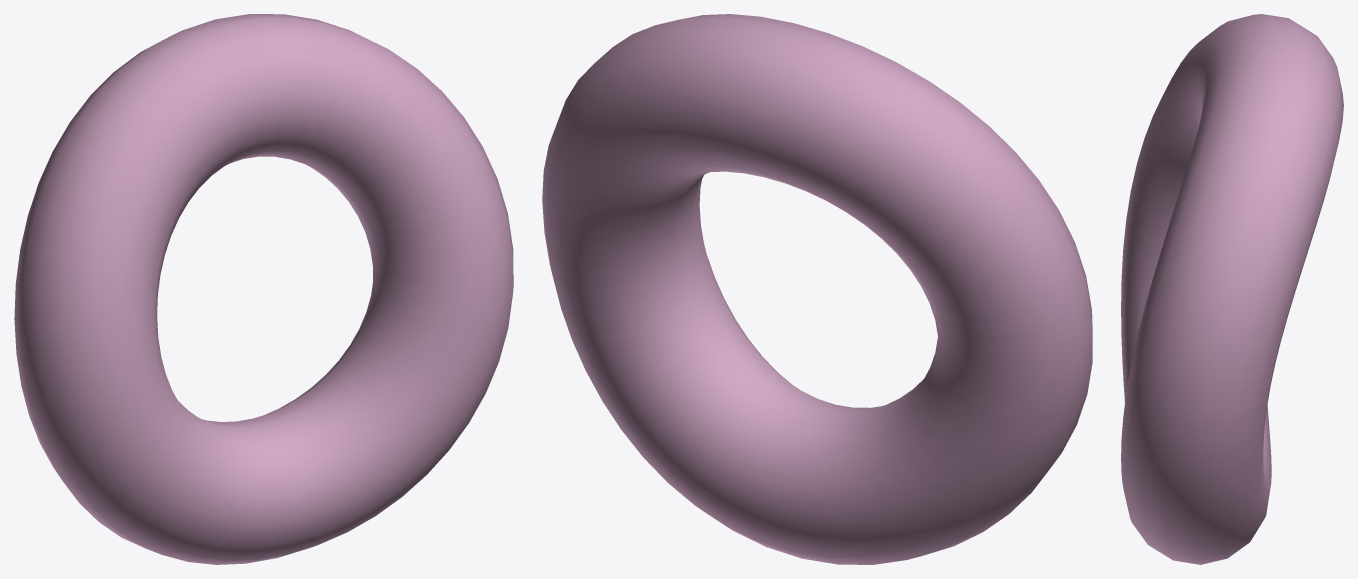
The picture shows the model from 3 angles, left to right: view 1: azimuth 30°, elevation 25°; view 2: azimuth 150°, elevation 25°; view 3: azimuth 270°, elevation 25°; orthographic projection. The views are drawn at different scales.
Parts seen in each view (by area): view 1: BezierCircle.017; view 2: BezierCircle.017; view 3: BezierCircle.017.
Part boxes in pixels (bbox=[...]): BezierCircle.017: bbox=[14, 14, 513, 564]; BezierCircle.017: bbox=[542, 14, 1092, 564]; BezierCircle.017: bbox=[1121, 14, 1343, 564].
Size of the model in its own units: 1 by 1 by 0.4053.
